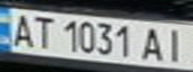0: (75, 18, 96, 55)
1: (112, 22, 136, 58), (57, 17, 81, 52)
3: (93, 20, 115, 56)
A: (6, 11, 36, 48), (139, 25, 169, 62)
I: (160, 25, 190, 64)
T: (30, 13, 57, 51)
